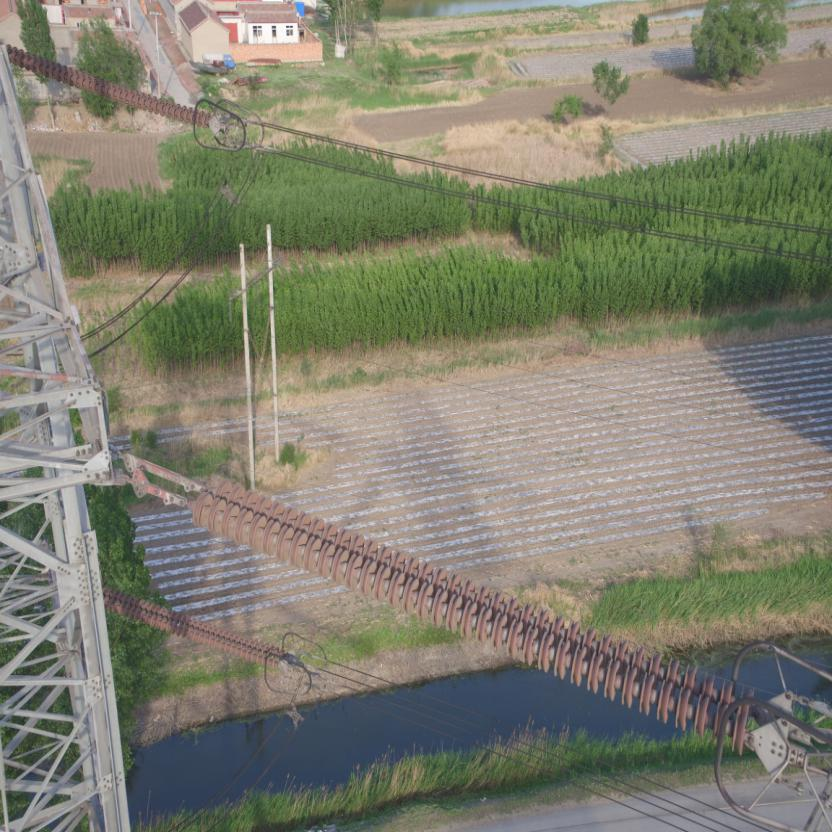insulator: (177, 467, 766, 758), (3, 40, 212, 136), (101, 581, 286, 670)
